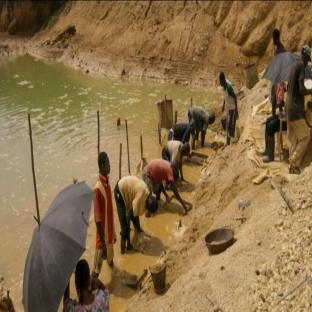Person: (90, 152, 122, 279), (287, 37, 312, 170), (112, 182, 160, 247), (66, 257, 116, 312), (137, 159, 186, 214), (214, 69, 243, 142), (184, 104, 218, 147), (159, 139, 193, 173)
